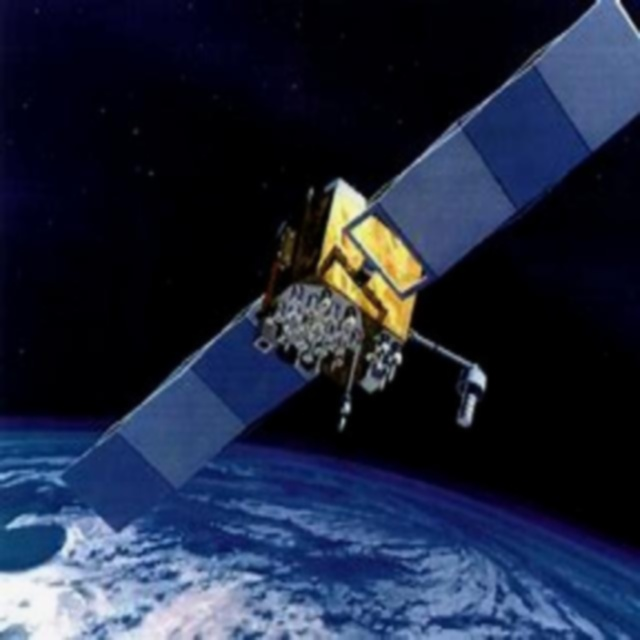medium_debris: (53, 0, 635, 536)
